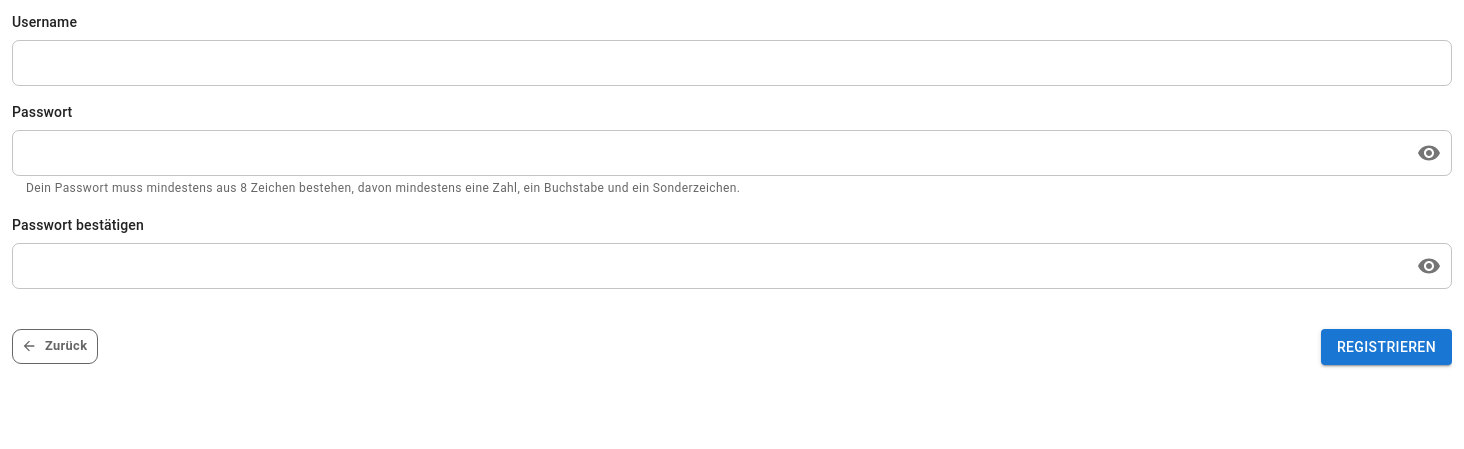
shows error when password validation fails
Type "validuser" into the field named "username" at (732, 63), box [12,45,1452,81]
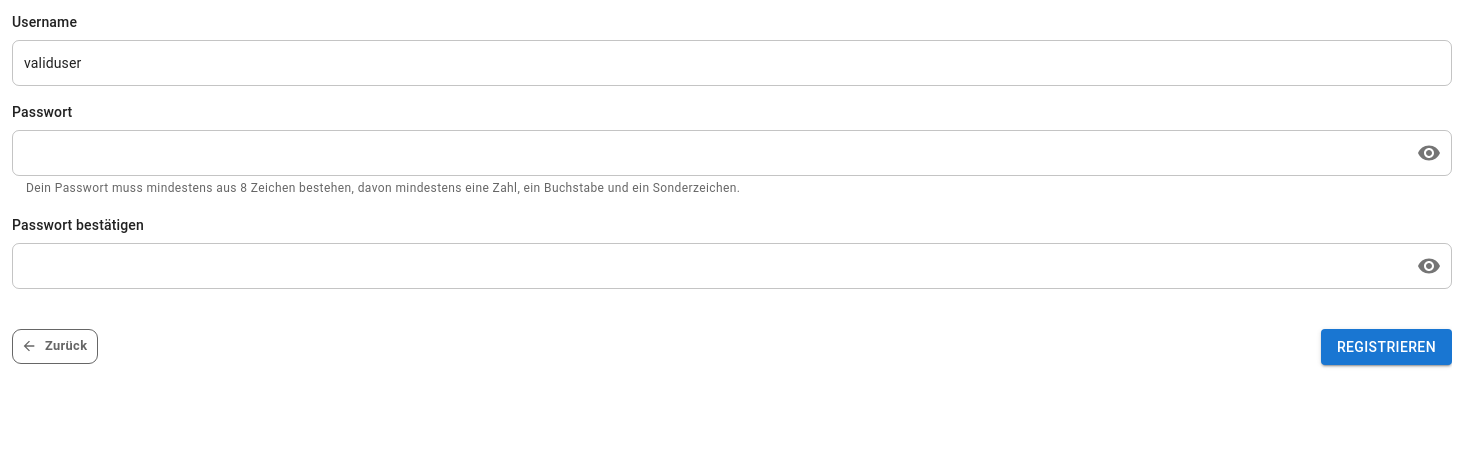
Type "123" into the password field named "Password" at (708, 153), box [12,135,1404,171]
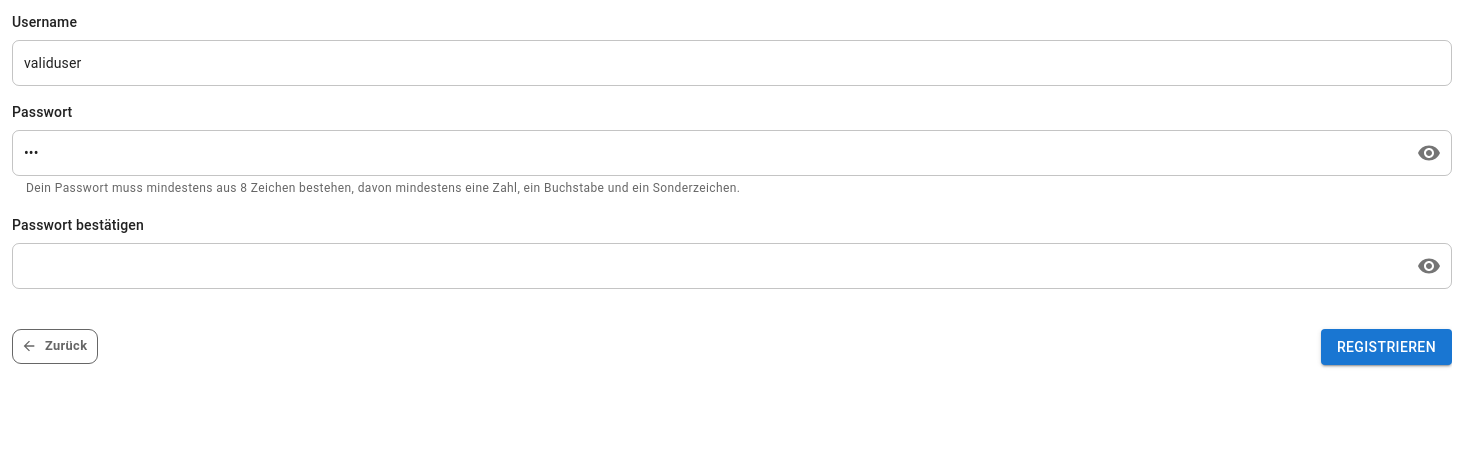
Click the button "Registrieren" at (1386, 347), box [1321,329,1452,366]
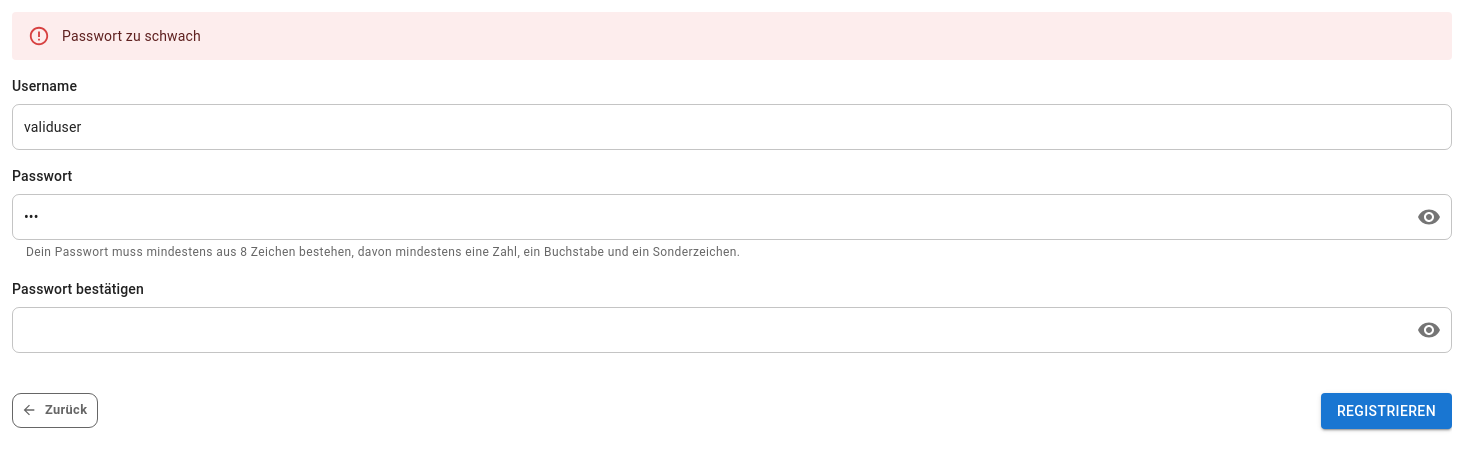
Check: the text "Passwort zu schwach" is shown, box [62,28,201,44]
